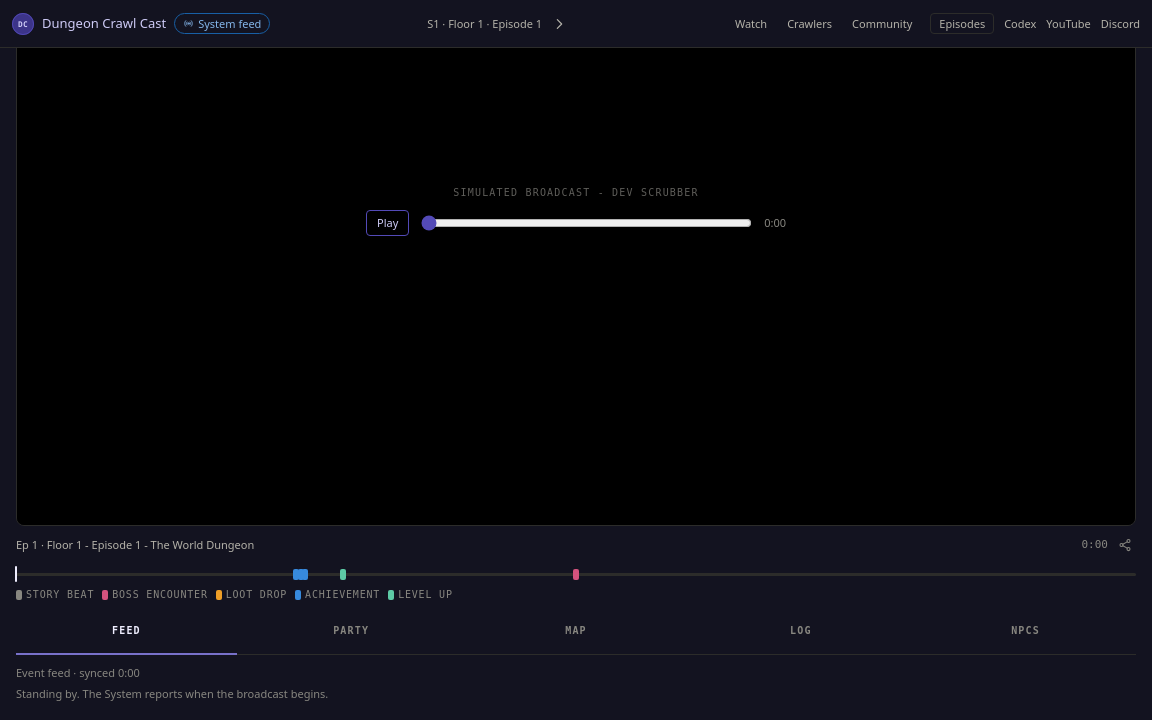
Test: EpisodePage on a phone › closes the sheet on Escape and hands focus back to the frame
(page scrolled)
Click the tab "Party".
click(351, 632)  # box x1=241 y1=610 x2=462 y2=654
(page scrolled)
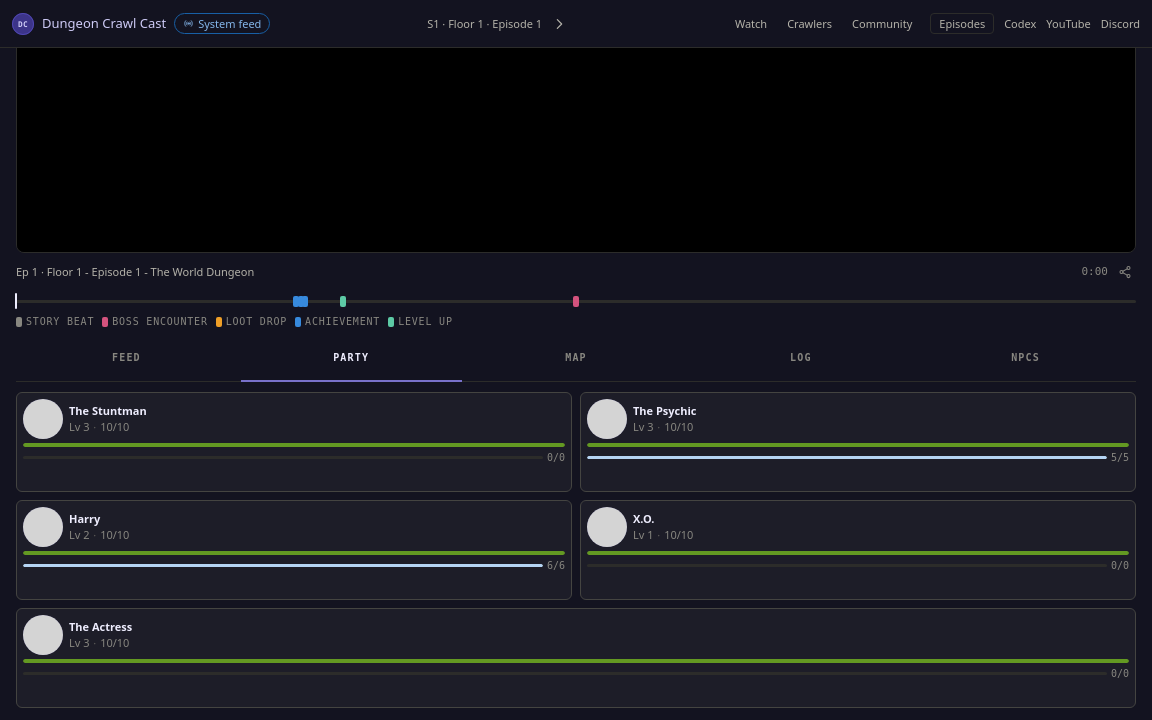
Click the button with test id "crawler-frame" showing "Harry Lv 2 · 10/10 6/6".
click(294, 550)  # box x1=16 y1=500 x2=572 y2=600
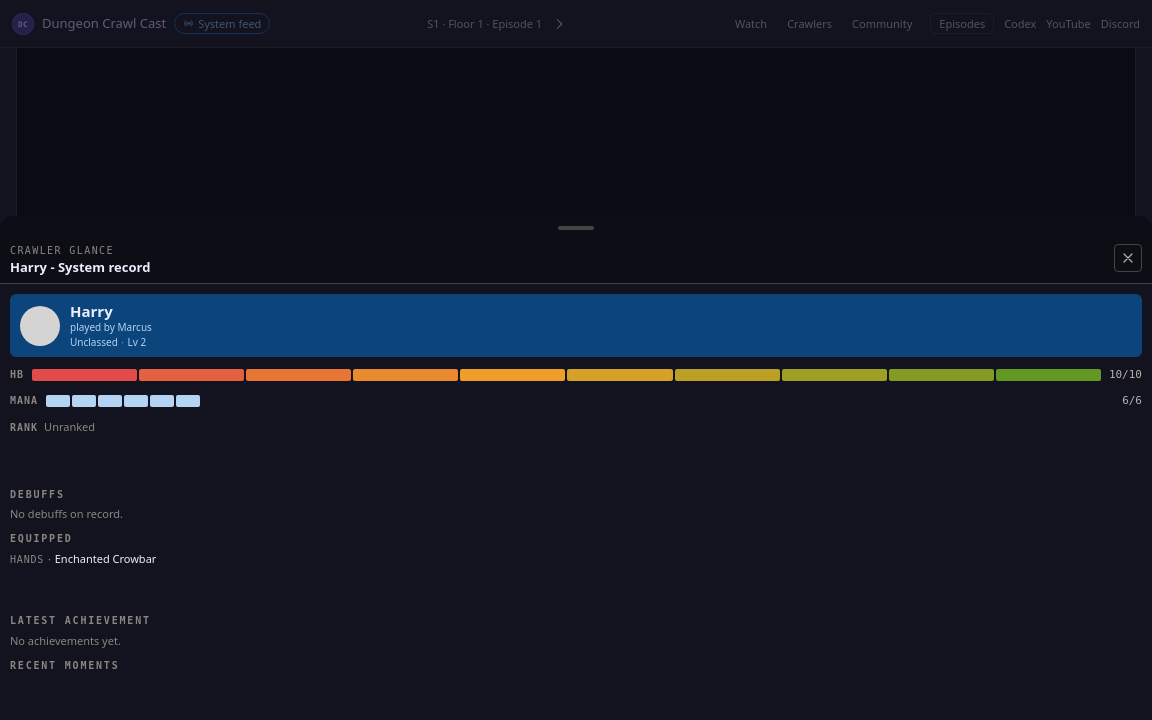
Check: the element with test id "rail-panel" is shown
Press Escape
(page scrolled)
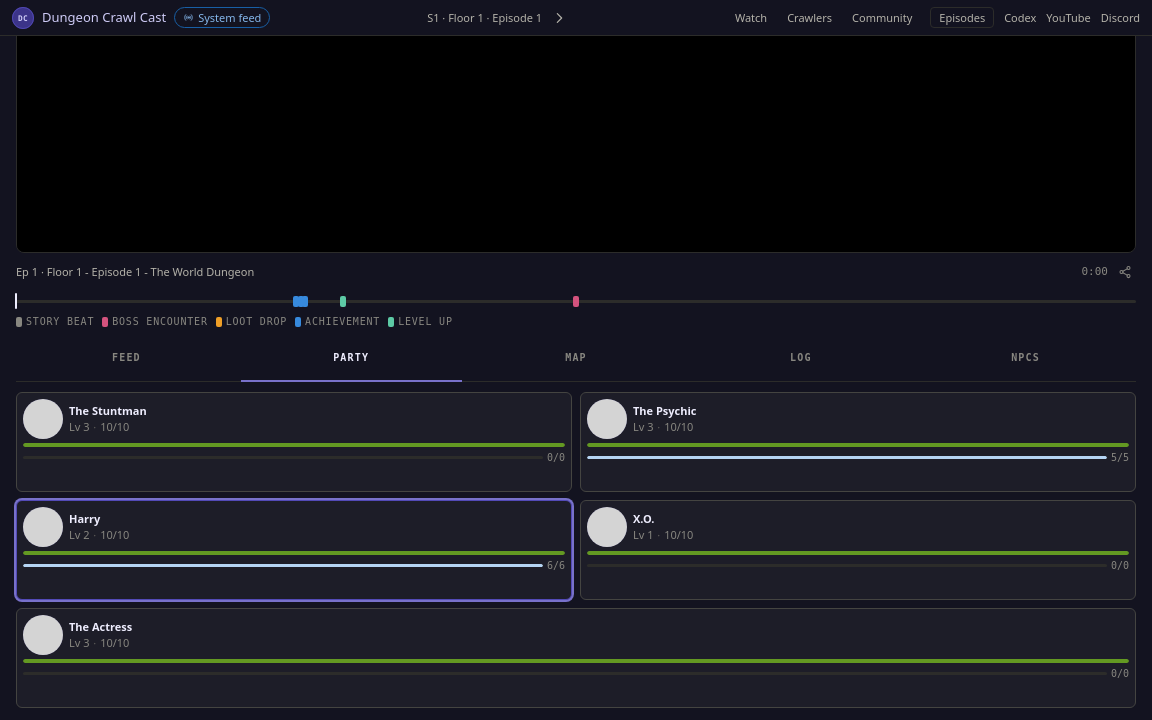
Check: the element with test id "rail-panel" is gone
Check: the element with test id "sheet-backdrop" is gone
